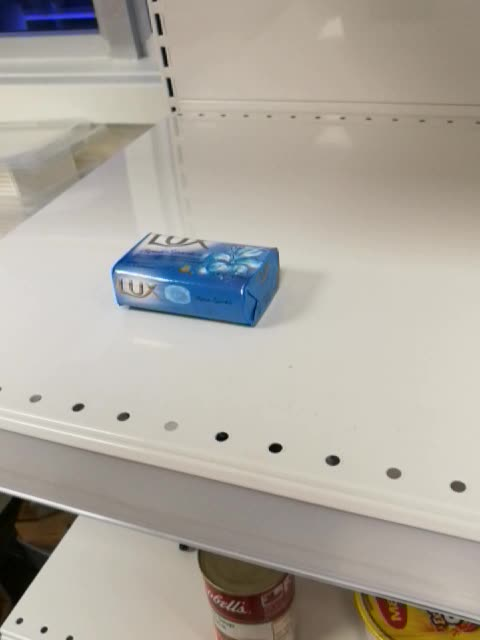soap: (110, 231, 281, 327)
